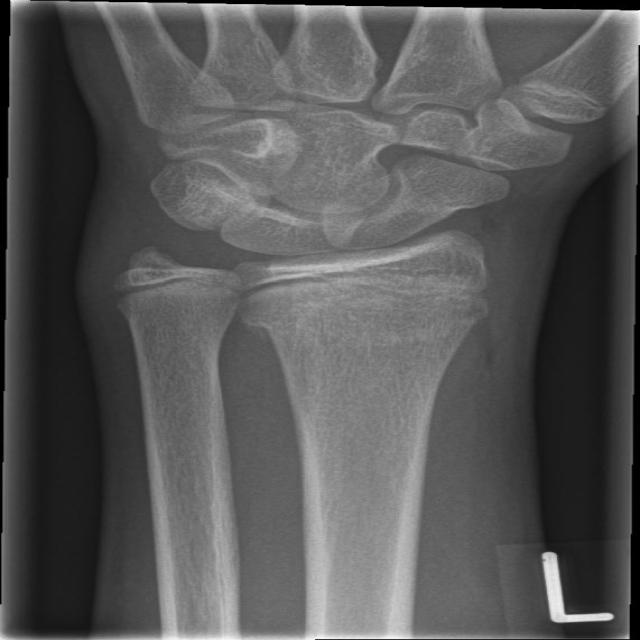fracture: (214, 252, 512, 326), (94, 260, 264, 316)
